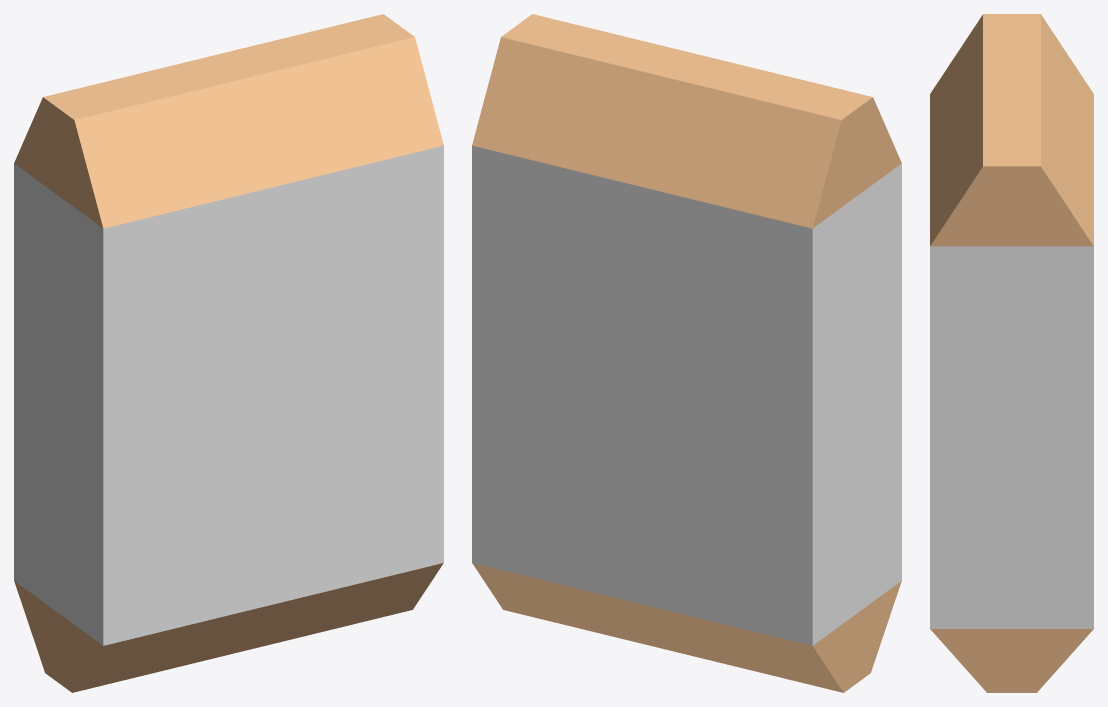
File: Peanuts.fbx
3 views of the same model, side by side, from view 1: azimuth 30°, elevation 25°; view 2: azimuth 150°, elevation 25°; view 3: azimuth 270°, elevation 25° (orthographic). The views are drawn at different scales.
Parts seen in each view (by area): view 1: Peanuts; view 2: Peanuts; view 3: Peanuts.
Part boxes in pixels (left/top/right/bottom): Peanuts: left=14, top=14, right=443, bottom=692; Peanuts: left=472, top=14, right=901, bottom=692; Peanuts: left=930, top=14, right=1093, bottom=692.
Size of the model in its own units: 39.77 by 18.07 by 64.1.
